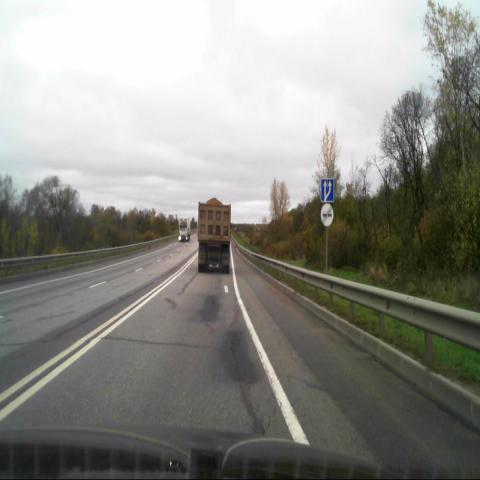3_21: (320, 203, 334, 227)
